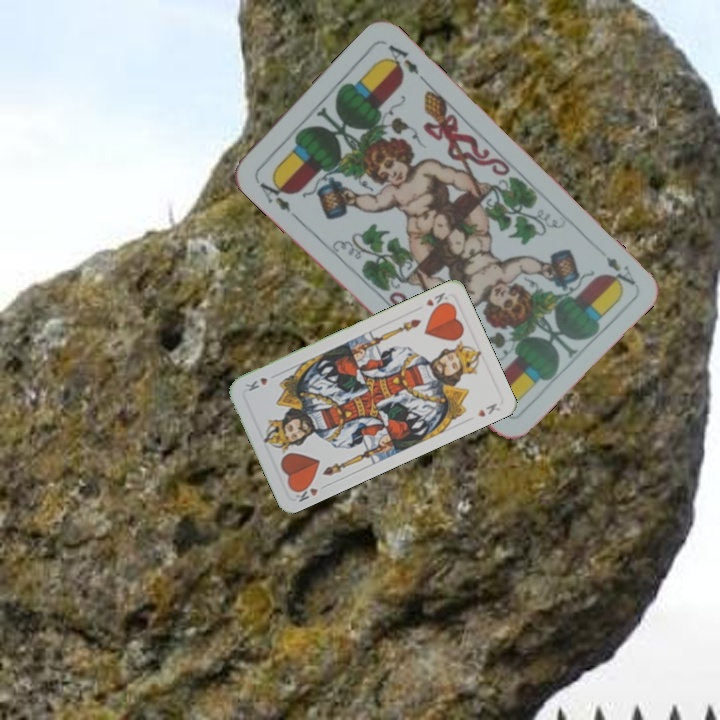EA: (251, 173, 294, 215), (601, 252, 638, 292)
HK: (289, 479, 330, 504), (422, 288, 453, 313)
